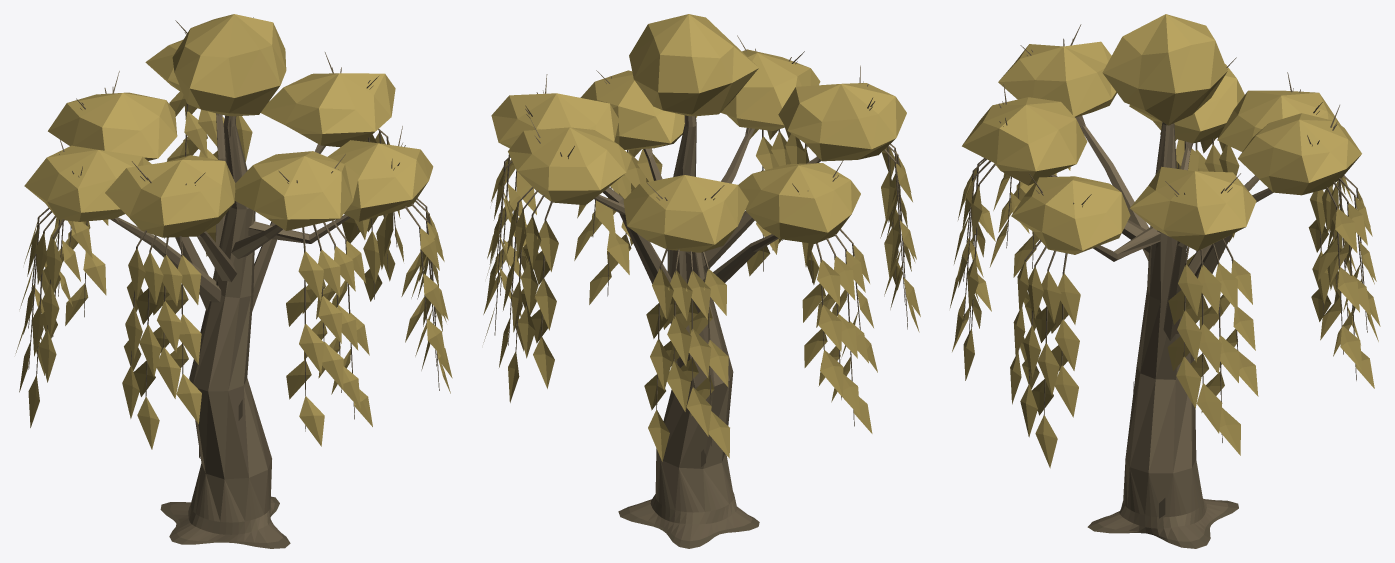
File: willow_autumn.glb
3 views of the same model, side by side, from view 1: azimuth 30°, elevation 25°; view 2: azimuth 150°, elevation 25°; view 3: azimuth 270°, elevation 25° (orthographic).
Visible parts, largest first — view 1: leaves, branches; view 2: leaves, branches; view 3: leaves, branches.
Boxes of the visible parts, x1,y1,x2,y2 form: leaves: [15, 14, 452, 449]; branches: [28, 17, 439, 548]; leaves: [483, 14, 920, 461]; branches: [494, 35, 907, 548]; leaves: [950, 14, 1380, 468]; branches: [963, 24, 1367, 548].
Bounding box in the file's own units: 3.6 × 4.6 × 3.54.
